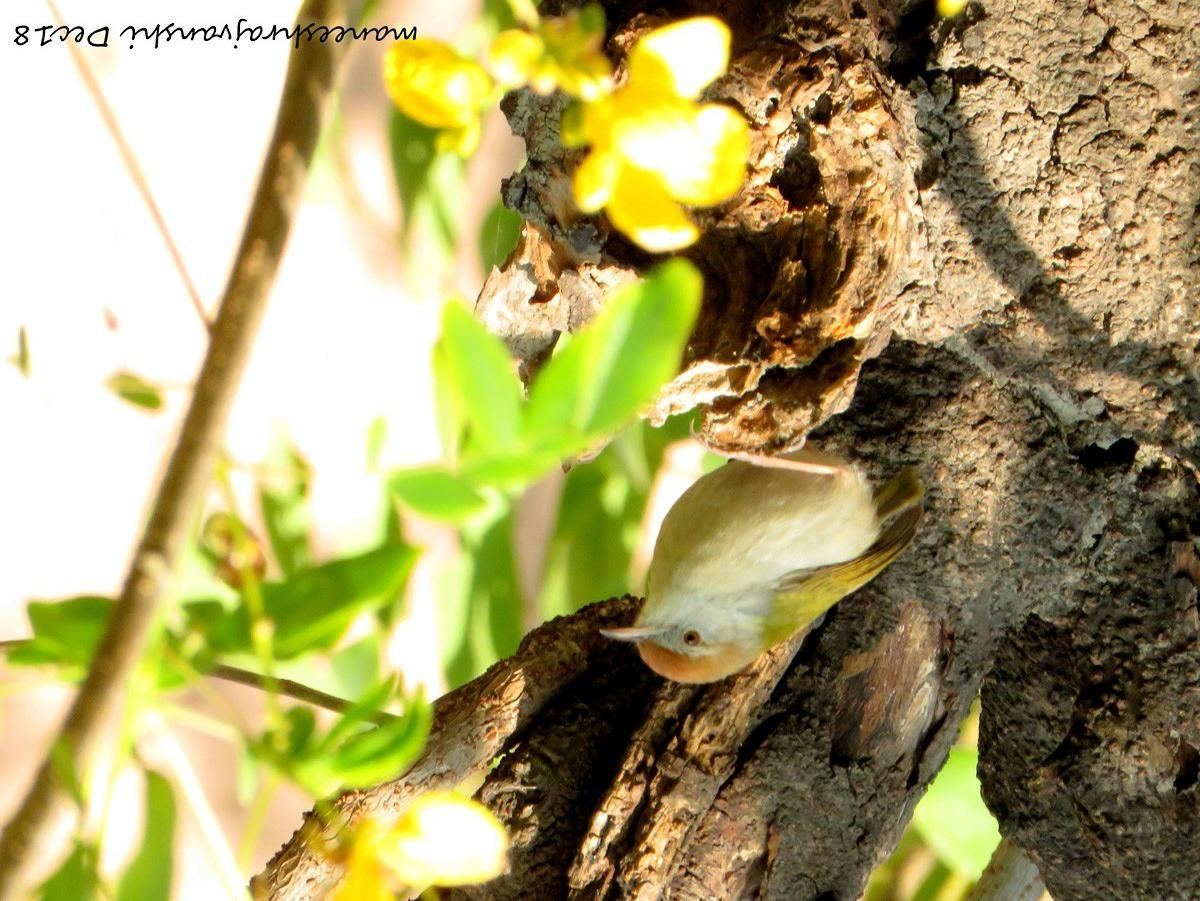tailorbird: (566, 393, 923, 703)
